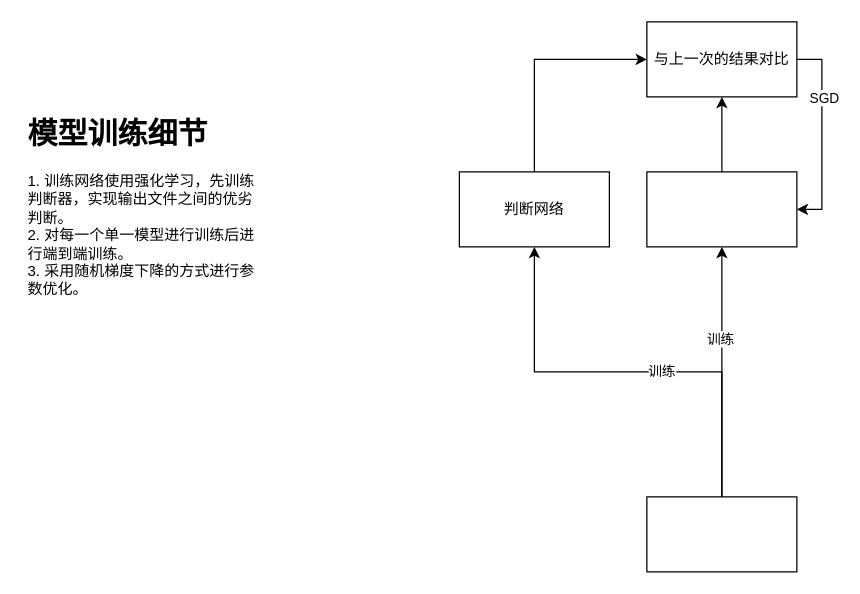
The diagram is 860 pixels wide and 594 high, and some of its shapes have lost their labels. Each missing label, with the centre of its shape:
数据: (x=721, y=534)
生成网络: (x=721, y=209)
